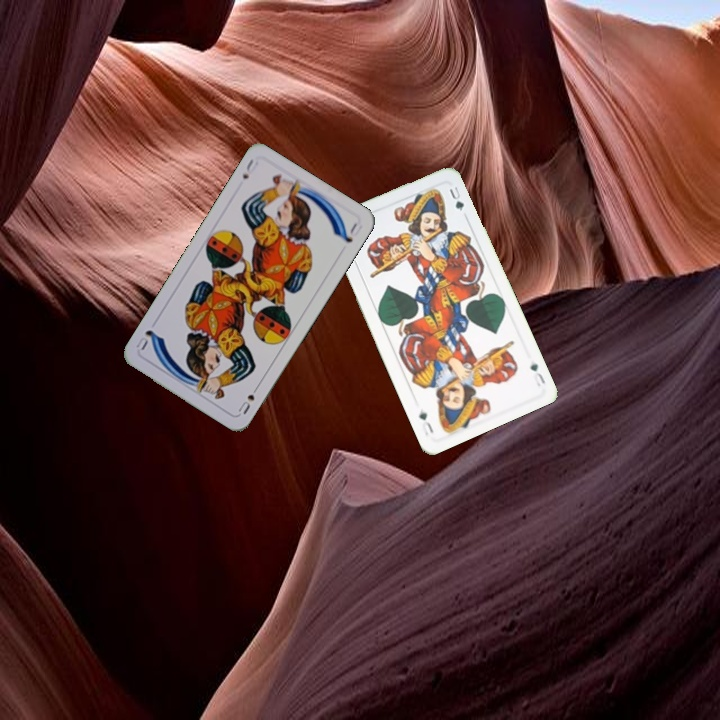GU: (526, 358, 548, 389)
SU: (234, 380, 262, 417), (238, 154, 261, 182)
